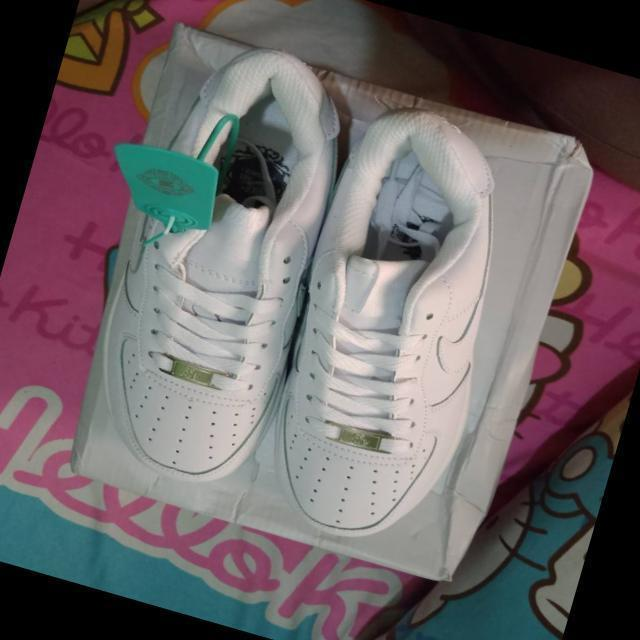nike fake air force: (52, 0, 384, 507), (230, 91, 542, 564)
